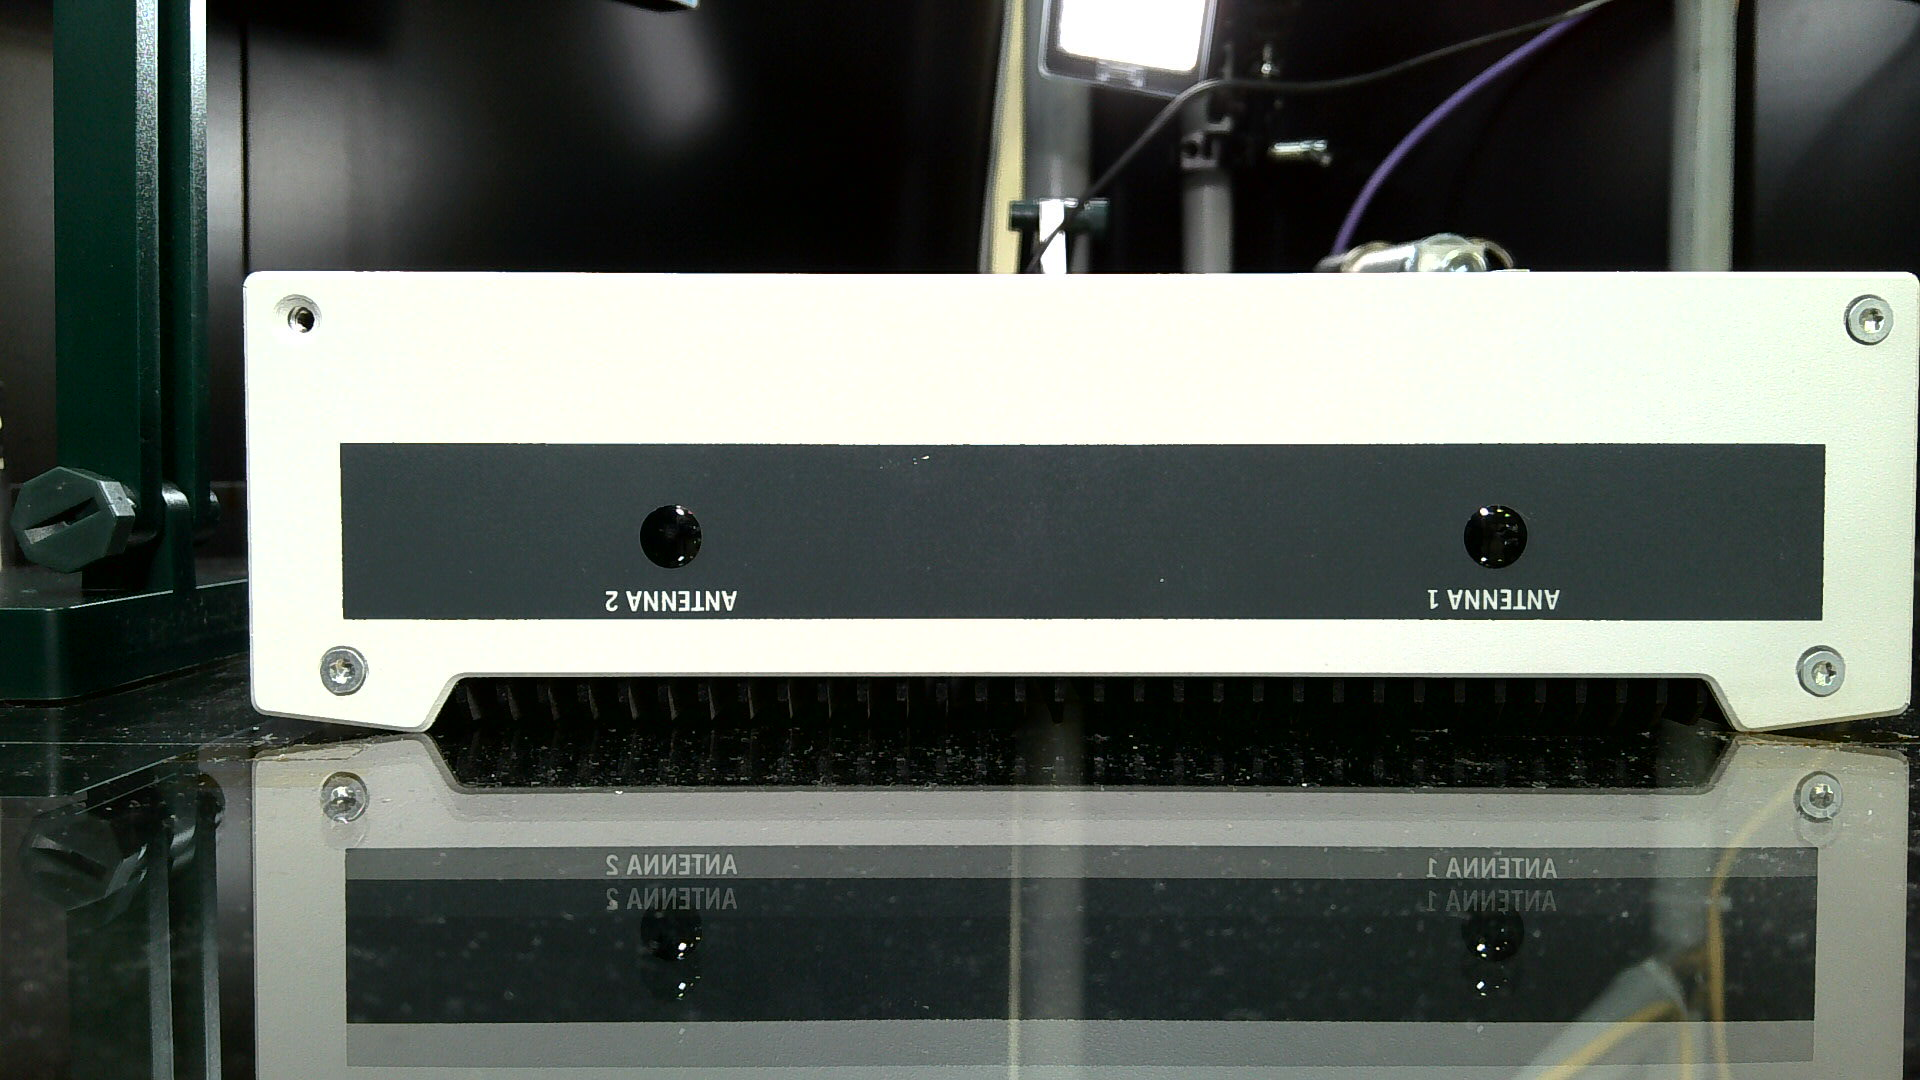CamBack: (191, 222, 1920, 731)
Loch: (261, 284, 331, 349)
Schraube_gespiegelt: (1787, 764, 1850, 855), (313, 762, 375, 855)
Schraube_halb: (1785, 636, 1854, 705), (309, 636, 375, 705), (1834, 287, 1902, 353)
